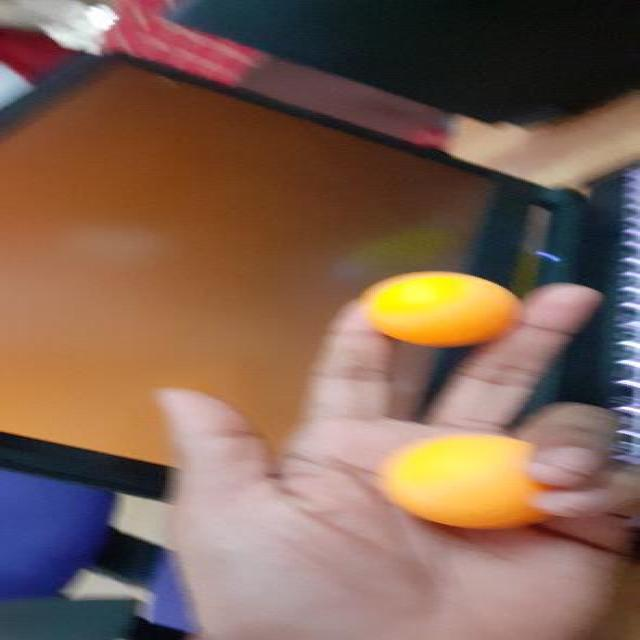oball: (374, 432, 561, 530), (364, 273, 516, 343)
